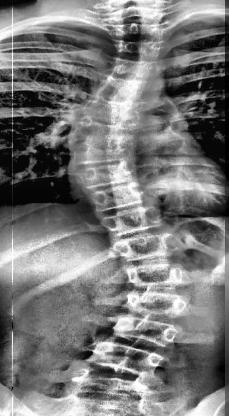Vertebrae: (86, 340, 170, 386), (64, 369, 154, 409), (100, 202, 167, 240), (110, 316, 186, 349), (69, 116, 143, 147), (113, 231, 182, 263), (84, 96, 156, 126), (96, 74, 162, 106), (123, 286, 193, 316), (88, 180, 148, 214), (70, 139, 140, 168), (76, 162, 140, 192), (122, 260, 190, 288), (105, 54, 167, 80), (110, 38, 168, 60), (105, 22, 170, 40)
